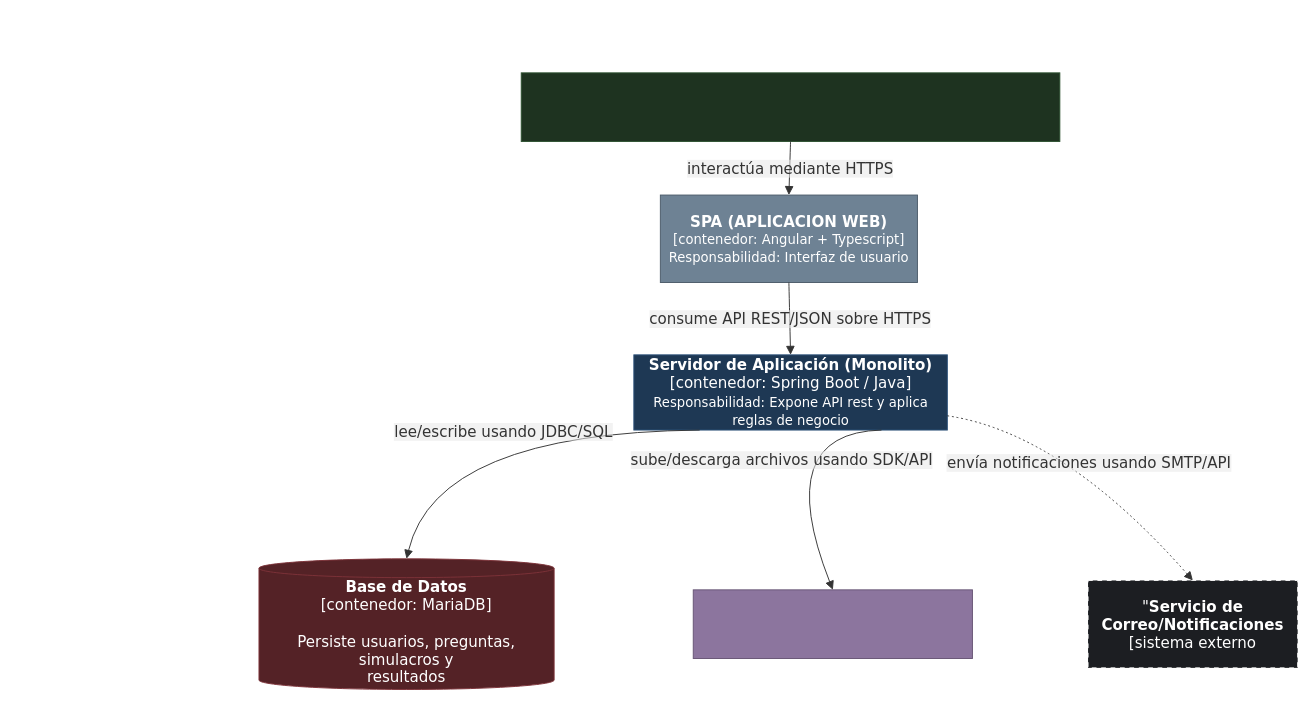
The diagram is 1314 pixels wide and 706 high, and some of its shapes have lost their labels. Here are the shapes that lost their labels. From the top down, the centre of each, then its label:
[790,106]: " Estudiante / Docente / Autor de preguntas / Revisor / Administrador [personas
[832,623]: " Almacenamiento de Archivos [contenedor: Object Storage - S3]
